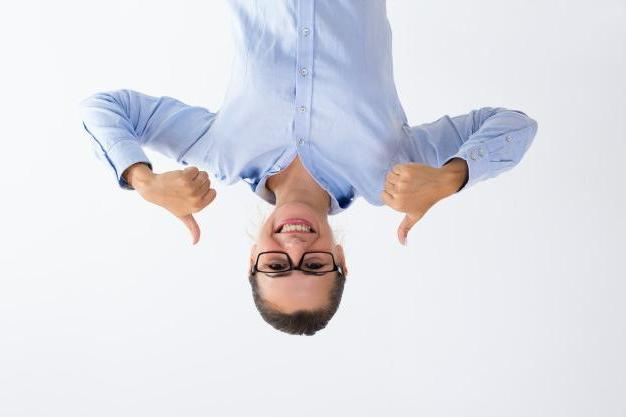thumbsdown: (381, 163, 423, 247), (175, 166, 217, 246)
